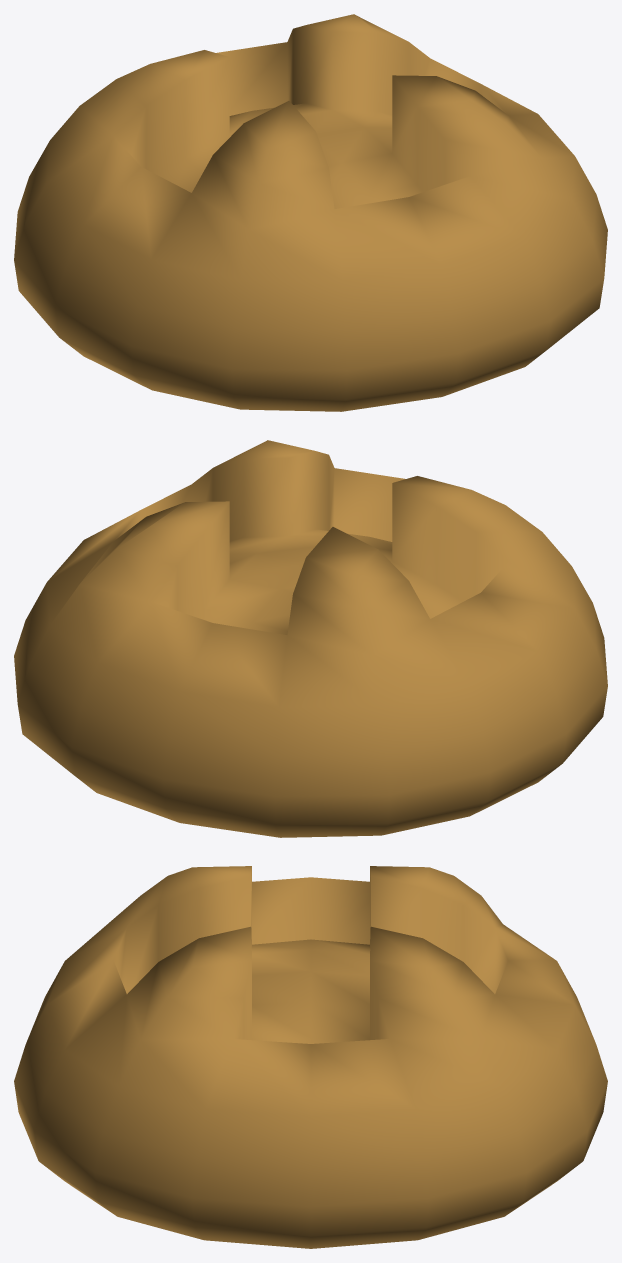
Rendered from Bread05.fbx.
The picture shows the model from 3 angles, top to bottom: view 1: azimuth 30°, elevation 25°; view 2: azimuth 150°, elevation 25°; view 3: azimuth 270°, elevation 25°; orthographic projection.
Parts seen in each view (by area): view 1: Bread.001; view 2: Bread.001; view 3: Bread.001.
Boxes of the visible parts, x1,y1,x2,y2 form: Bread.001: (14,14,607,411); Bread.001: (14,440,607,837); Bread.001: (14,866,607,1248).
Size of the model in its own units: 144 by 71.67 by 144.
